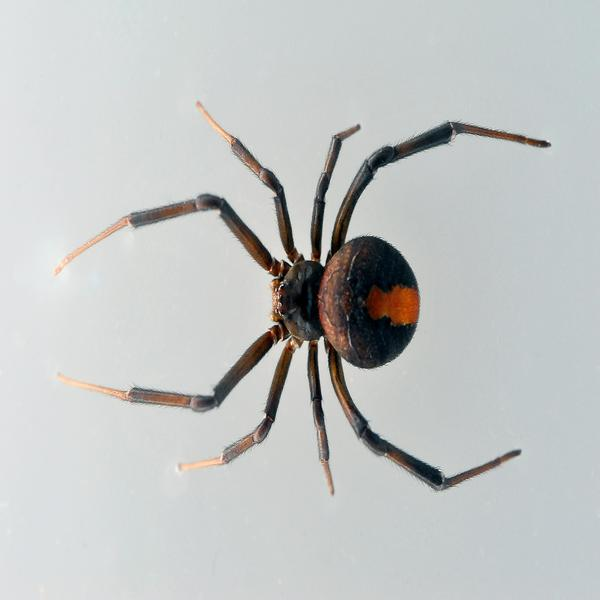Redback Spider: (55, 99, 553, 497)
